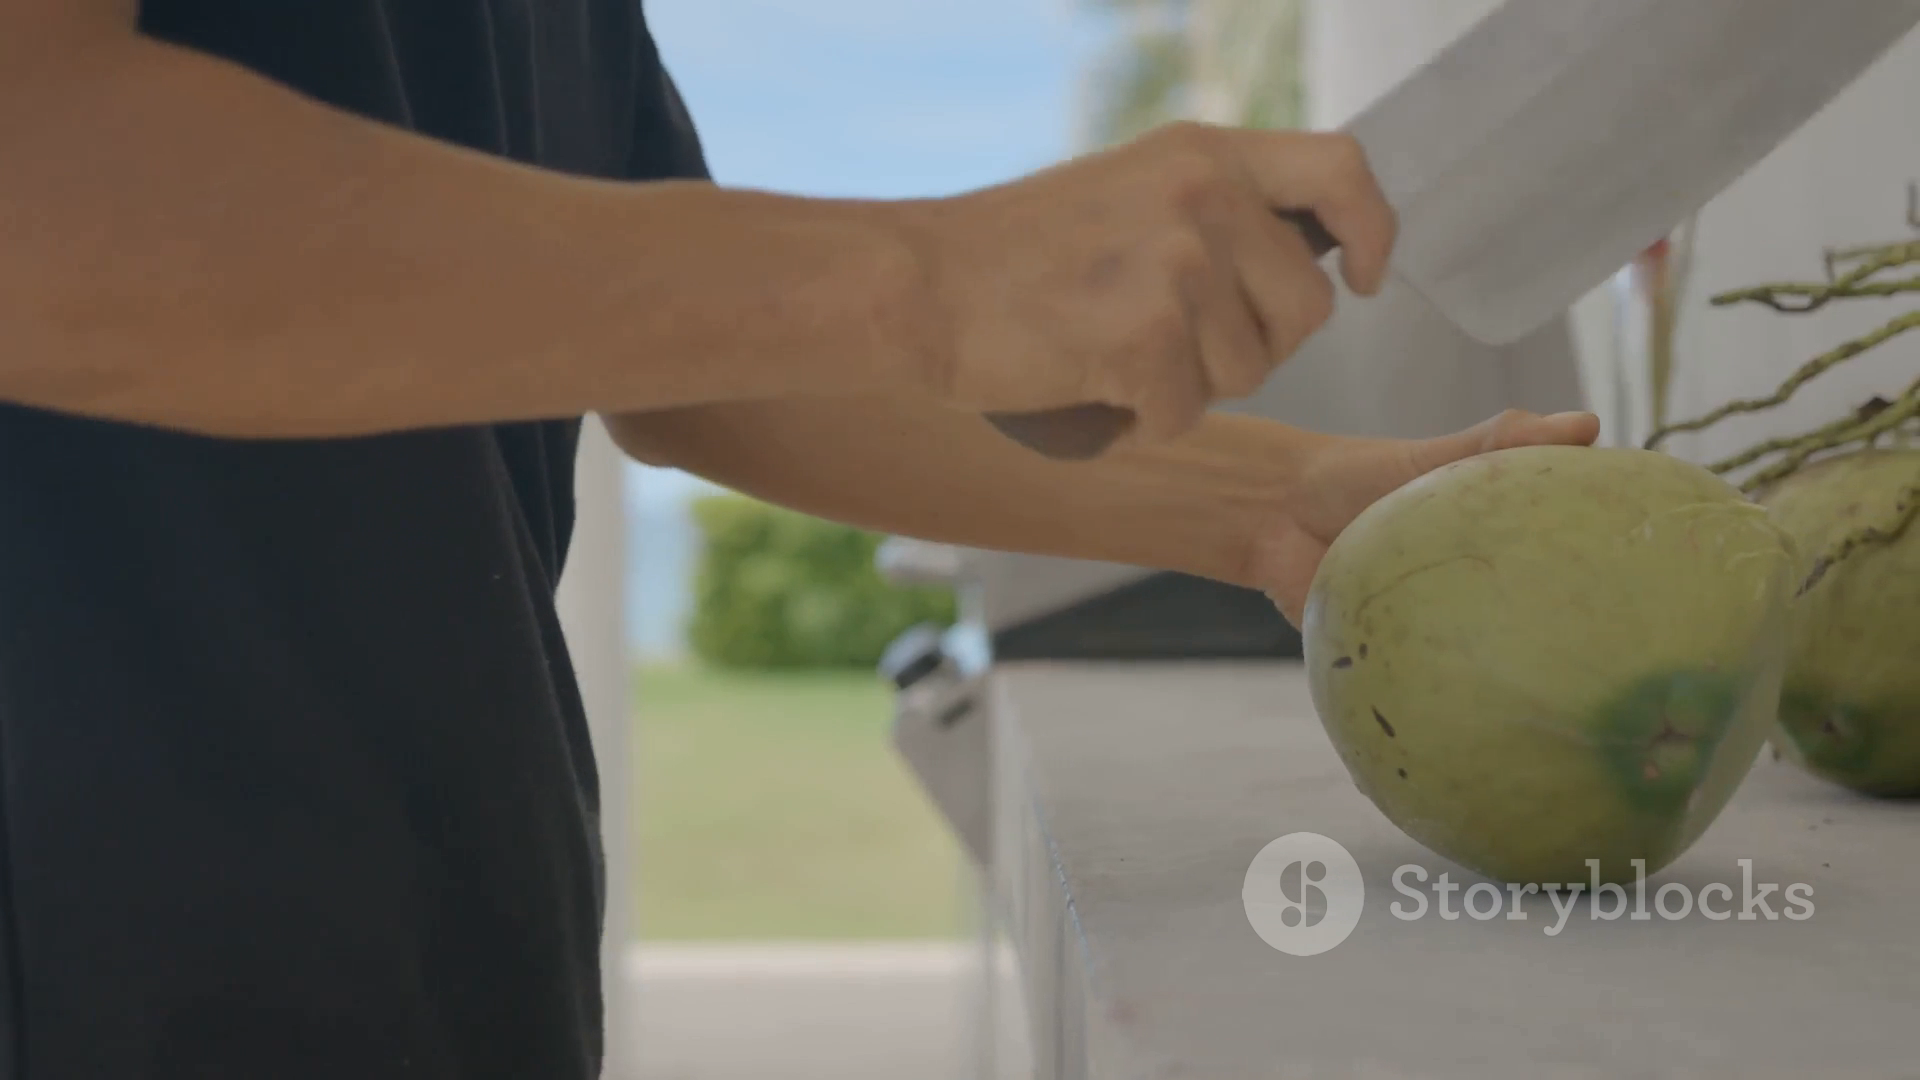cortante: (1329, 0, 1920, 349)
